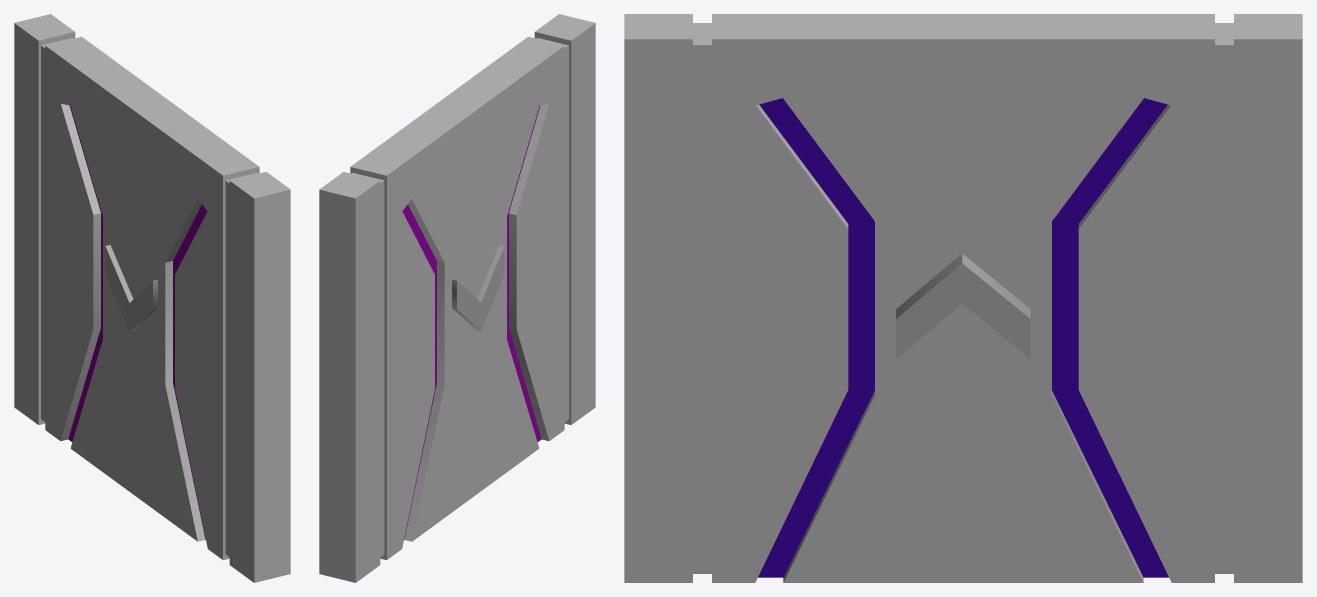
File: Door_up_with_arrow.fbx
The picture shows the model from 3 angles, left to right: view 1: azimuth 30°, elevation 25°; view 2: azimuth 150°, elevation 25°; view 3: azimuth 270°, elevation 25°; orthographic projection. The views are drawn at different scales.
Parts seen in each view (by area): view 1: Door_up, Lighting_door, fleba_abajo; view 2: Door_up, Lighting_door, fleba_abajo; view 3: Door_up, Lighting_door, flecha.
Part boxes in pixels (box(x1,y1,x2,y2)): Door_up: box(14, 14, 290, 582); Lighting_door: box(68, 105, 207, 539); fleba_abajo: box(105, 244, 157, 331); Door_up: box(319, 14, 595, 582); Lighting_door: box(402, 105, 541, 539); fleba_abajo: box(452, 245, 504, 330); Door_up: box(624, 14, 1302, 582); Lighting_door: box(758, 98, 1168, 577); flecha: box(896, 253, 1030, 359).
Size of the model in its own units: 67.9 by 446 by 504.
